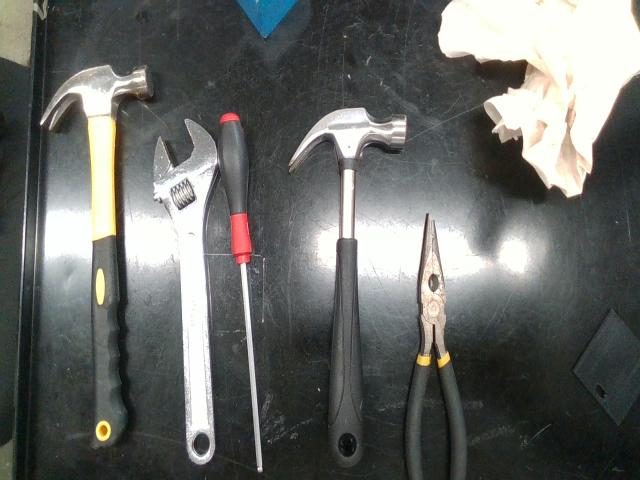Adjustable spanner: (154, 118, 219, 465)
Hammer: (40, 65, 154, 447), (289, 108, 408, 467)
Needle-nose pliers: (406, 213, 466, 480)
Screwdriver: (218, 113, 262, 472)
